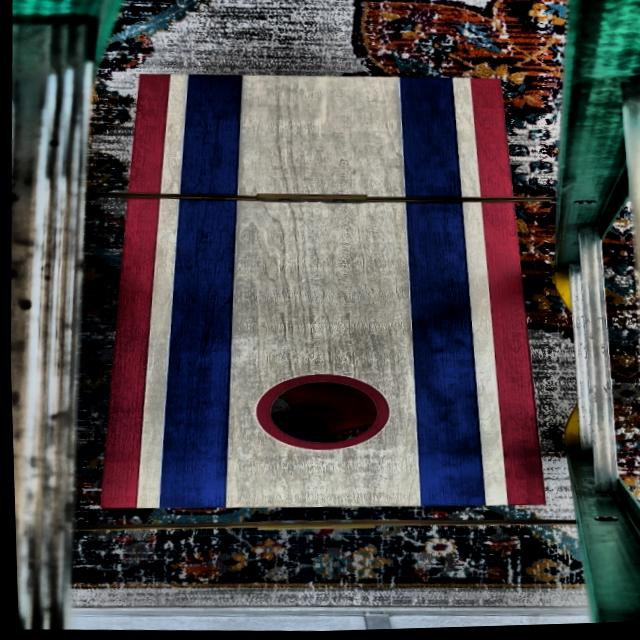blue-bean-bag-in-hole: (267, 403, 333, 447)
board: (122, 69, 510, 518)
hole: (247, 372, 388, 456)
red-bean-bag-in-hole: (278, 381, 374, 438)
